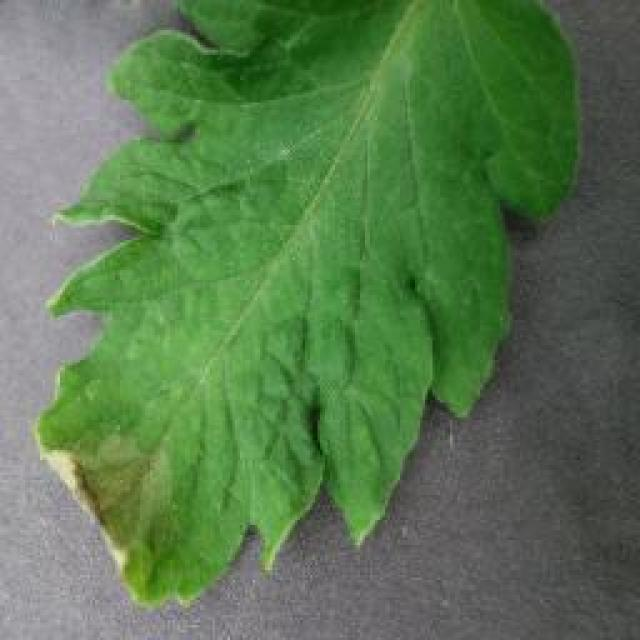Tomato___Late_blight: (30, 0, 582, 610)
